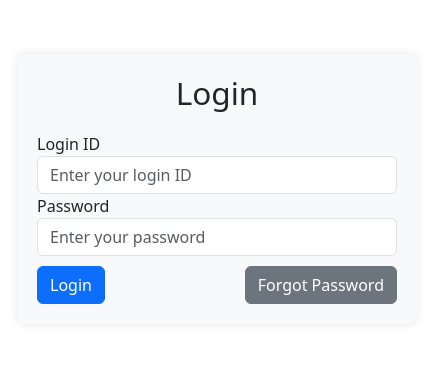
Test: LoginPage › shows error message for empty password
The width and height of the screenshot is (435, 379).
Type "user" into the field labelled "Login ID" at [217, 175], box [37, 156, 397, 194]
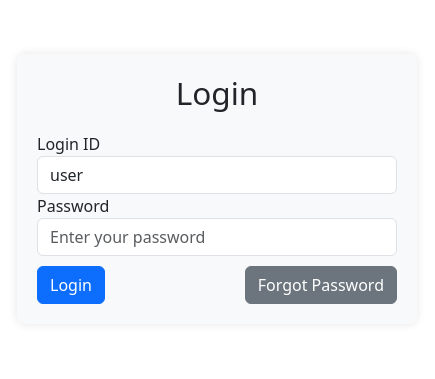
Click the button "Login" at [71, 285], box [37, 266, 105, 304]
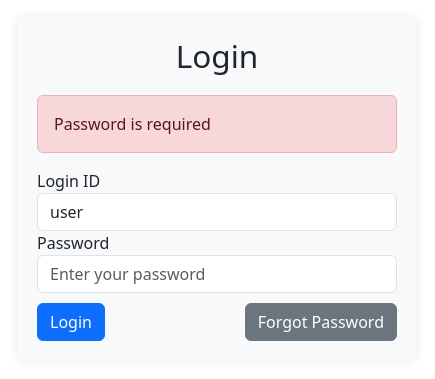
Check: the text "Password is required" is shown, box [37, 95, 397, 153]
